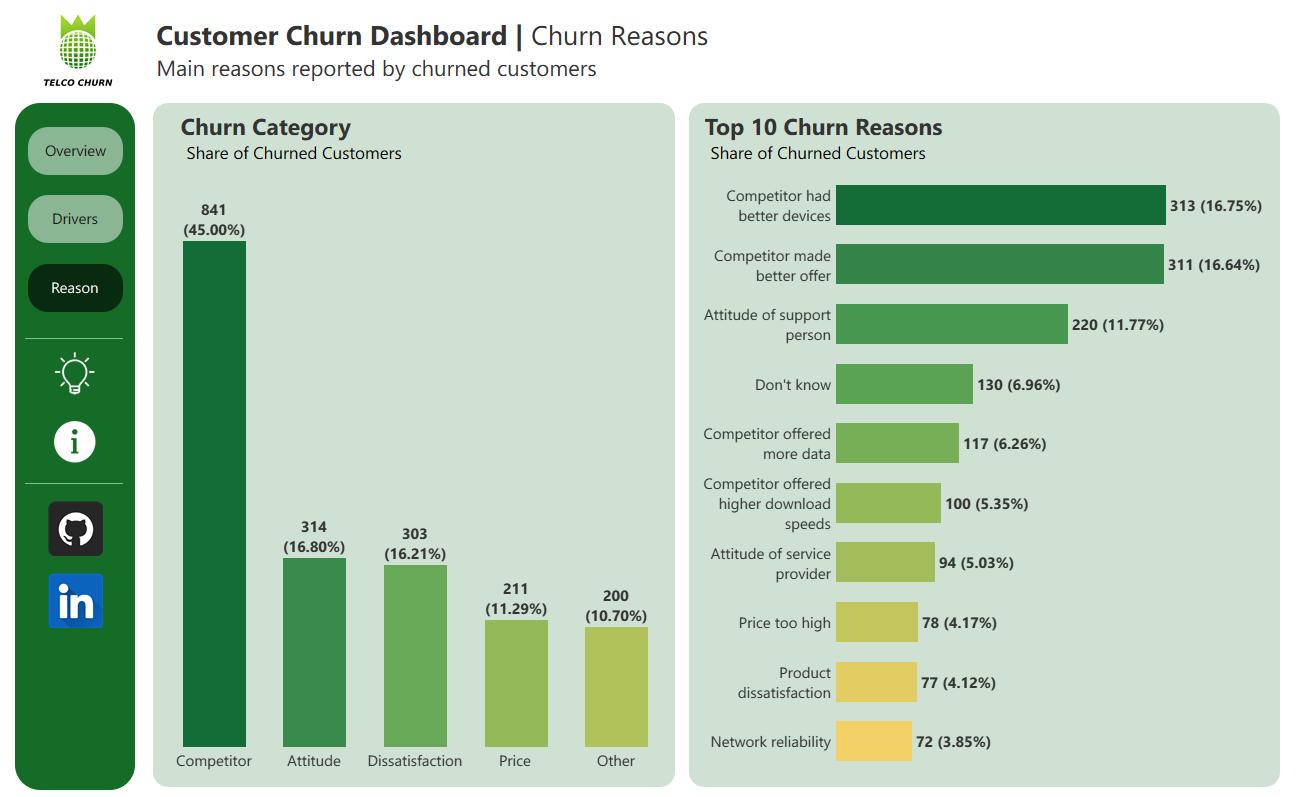

What the dashboard file says about the page in this screenshot:
{"tool":"tableau","page":{"name":"Churn Reasons","canvas":[1300,800],"ordinal":3},"visuals":[{"type":"image","param":"Image/logo telco churn.png","box":[12,3,135,99]},{"type":"title","box":[155,12,1145,76]},{"type":"blank","box":[17,104,120,687]},{"type":"blank","box":[155,104,522,684]},{"type":"blank","box":[691,104,591,684]},{"type":"worksheet","title":"Churn Category","mark":"Bar","rows":["Customer ID"],"cols":["Churn Category"],"box":[166,107,504,665]},{"type":"worksheet","title":"Top 10 Churn Reasons","mark":"Bar","rows":["Churn Reason"],"cols":["Customer ID"],"box":[690,107,596,665]},{"type":"dashboard-object","box":[30,128,95,48]},{"type":"dashboard-object","box":[30,196,95,48]},{"type":"dashboard-object","box":[30,265,95,48]},{"type":"blank","box":[27,339,98,1]},{"type":"dashboard-object","box":[54,352,45,45]},{"type":"dashboard-object","box":[54,420,45,45]},{"type":"blank","box":[27,484,98,1]},{"type":"image","param":"Image/github.png","box":[50,502,55,55]},{"type":"image","param":"Image/linkedin.png","box":[50,574,55,55]}]}

Visuals, with their boxes in screenshot pixels (x1, y1, x2, y2), scaled from the page's 1300x800 canvas onto the 1297x797 screenshot:
image: bbox=[12, 3, 147, 102]
title: bbox=[155, 12, 1296, 88]
blank: bbox=[17, 104, 137, 788]
blank: bbox=[155, 104, 675, 785]
blank: bbox=[689, 104, 1279, 785]
"Churn Category" worksheet (Bar marks): bbox=[166, 107, 668, 769]
"Top 10 Churn Reasons" worksheet (Bar marks): bbox=[688, 107, 1283, 769]
dashboard-object: bbox=[30, 128, 125, 175]
dashboard-object: bbox=[30, 195, 125, 243]
dashboard-object: bbox=[30, 264, 125, 312]
blank: bbox=[27, 338, 125, 339]
dashboard-object: bbox=[54, 351, 99, 396]
dashboard-object: bbox=[54, 418, 99, 463]
blank: bbox=[27, 482, 125, 483]
image: bbox=[50, 500, 105, 555]
image: bbox=[50, 572, 105, 627]
